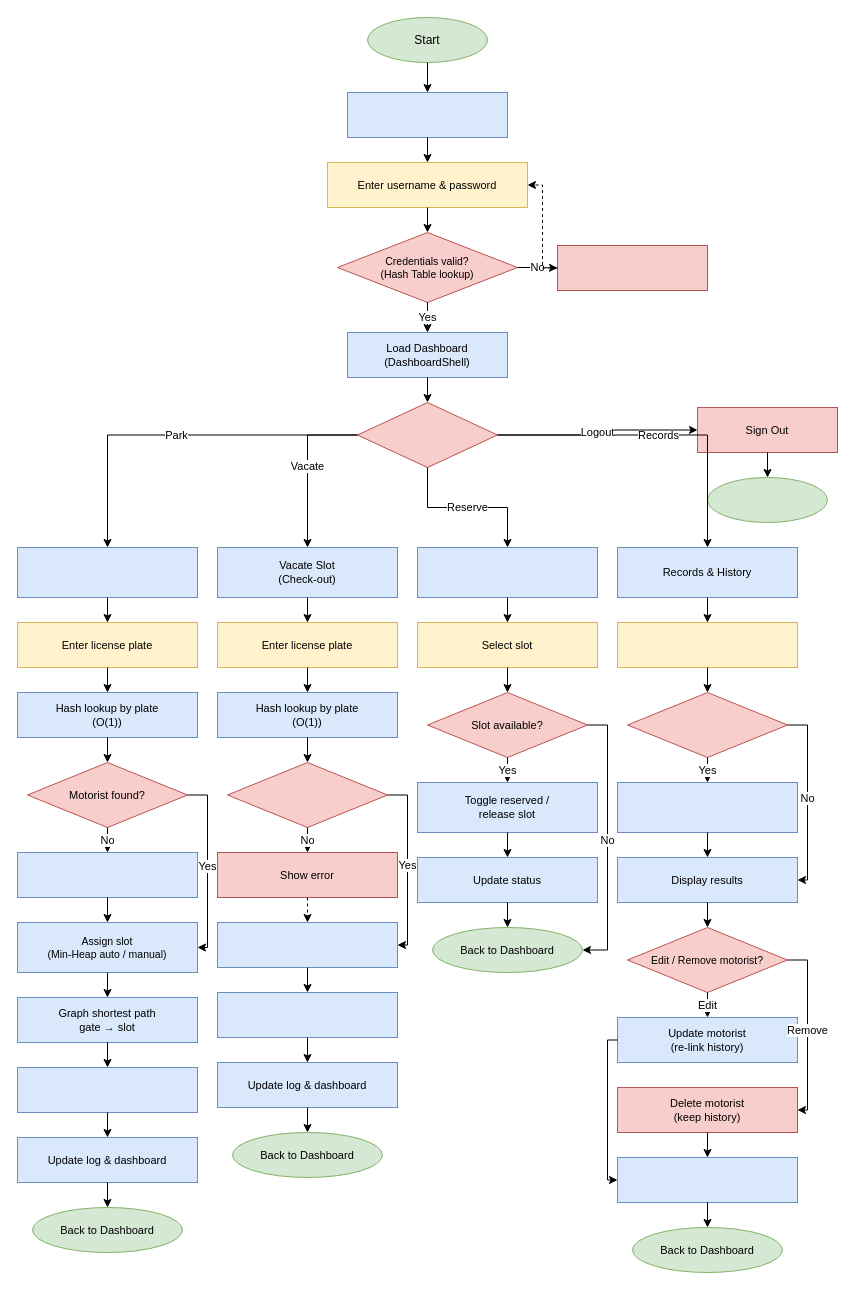
The diagram is 855 pixels wide and 1290 high, and some of its shapes have lost their labels. The shapes that lost their labels are listed below. From the top down, each one's centre as x and y in pixels, then its label:
At (427,115): "Open ParkGanern (Browser)".
At (632,267): "Show error notice".
At (427,435): "Select action".
At (767,499): "End".
At (107,572): "Park Vehicle (Check-in)".
At (507,572): "Reserve / Release Slot".
At (707,645): "Apply filters (slot, from/to)".
At (707,725): "Search query?".
At (307,795): "Active record found?".
At (707,807): "Binary search on merge-sorted log (O(log n))".
At (107,875): "Register new motorist".
At (307,945): "Set exited_at (close record)".
At (307,1015): "Push slot to Min-Heap (O(log n))".
At (107,1089): "Create parking record".
At (707,1179): "Update records".
